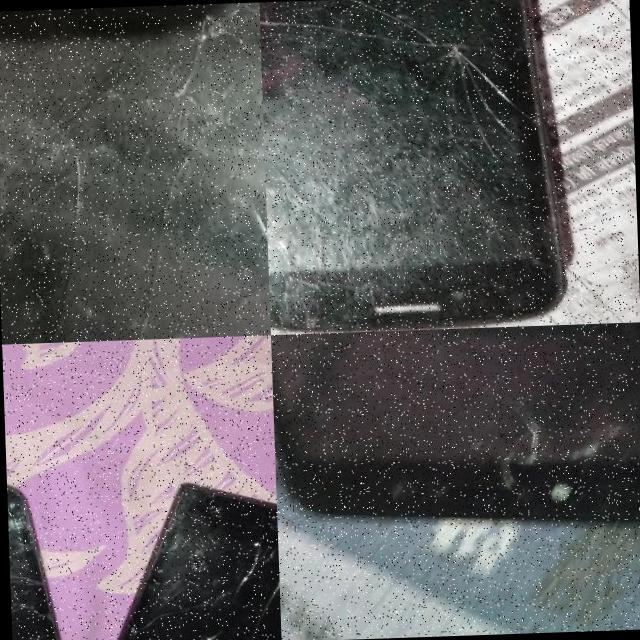screen crack: (0, 2, 269, 344), (258, 0, 553, 186), (423, 397, 640, 533), (80, 502, 280, 640), (266, 246, 399, 334)
